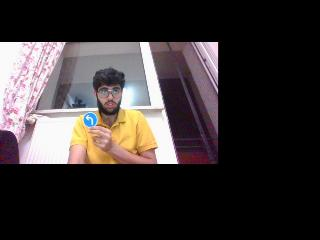left: (84, 113, 98, 127)
